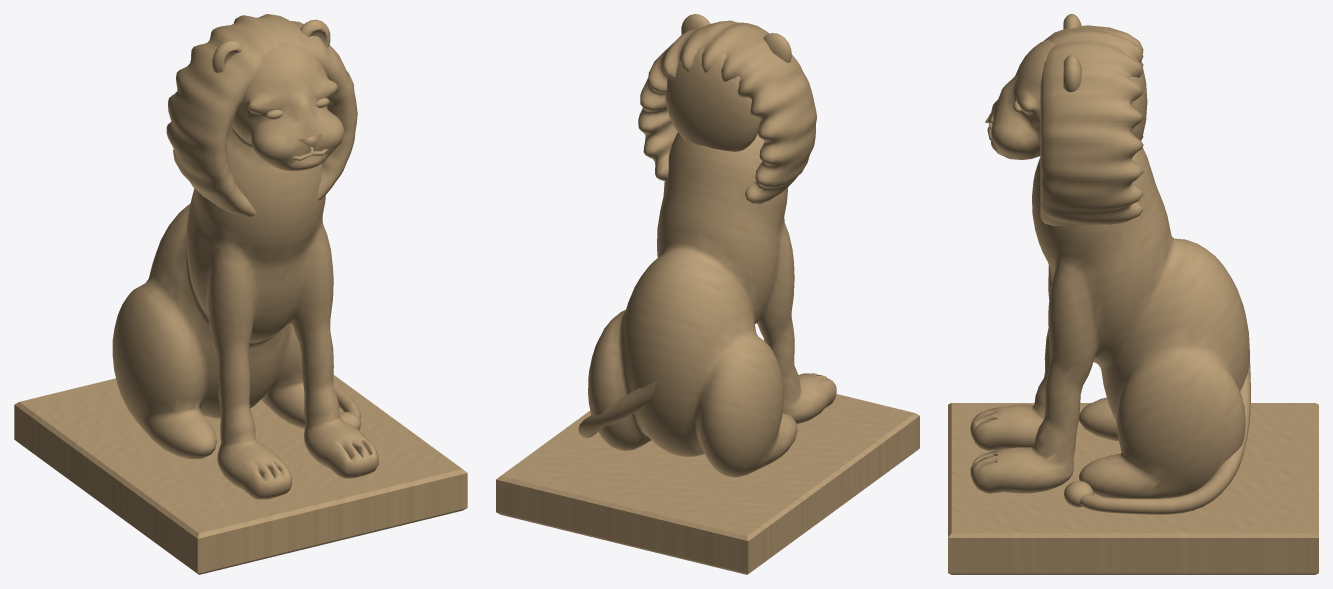
The model's file is lion-candidate.glb.
3 views of the same model, side by side, from view 1: azimuth 30°, elevation 25°; view 2: azimuth 150°, elevation 25°; view 3: azimuth 270°, elevation 25° (orthographic). The views are drawn at different scales.
Visible parts, largest first — view 1: Seated lion body with articulated limbs and muzzle, Chamfered physical socle, Carved volumetric mane ruff, Left rounded carved ear; view 2: Seated lion body with articulated limbs and muzzle, Chamfered physical socle, Carved volumetric mane ruff, Continuous mane nape backing, Curving grounded tail; view 3: Seated lion body with articulated limbs and muzzle, Chamfered physical socle, Carved volumetric mane ruff, Curving grounded tail, Continuous mane nape backing, Right rounded carved ear, Seated tail tuft.
Part boxes in pixels (x1,y1,x2,y2): Seated lion body with articulated limbs and muzzle: (112,42,378,499); Chamfered physical socle: (14,374,467,574); Carved volumetric mane ruff: (166,14,357,216); Left rounded carved ear: (212,40,243,72); Seated lion body with articulated limbs and muzzle: (588,22,836,477); Chamfered physical socle: (496,394,919,574); Carved volumetric mane ruff: (638,20,816,204); Continuous mane nape backing: (665,47,760,151); Curving grounded tail: (578,382,654,437); Seated lion body with articulated limbs and muzzle: (970,39,1249,498); Chamfered physical socle: (948,403,1318,574); Carved volumetric mane ruff: (1040,25,1143,226); Curving grounded tail: (1080,359,1250,514); Continuous mane nape backing: (1123,49,1147,155); Right rounded carved ear: (1063,55,1081,92); Seated tail tuft: (1064,481,1093,507).
Size of the model in its own units: 0.68 by 1.13 by 0.8.
1 material, 1 textured.
